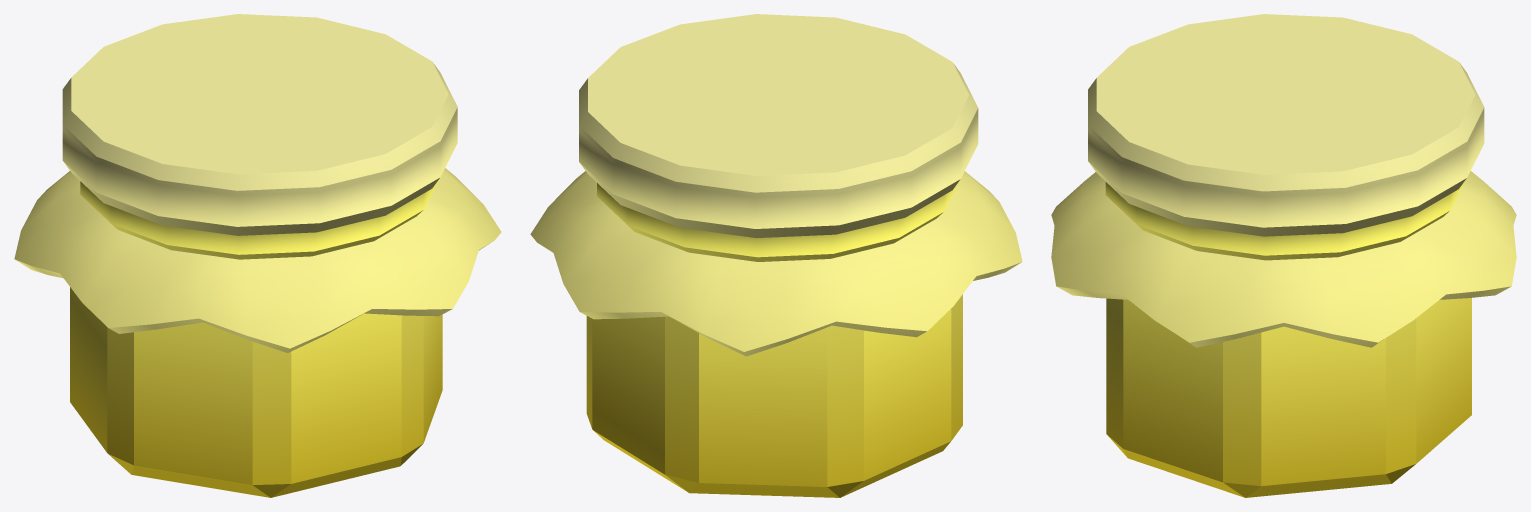
Rendered from jam_yellow.fbx.
3 views of the same model, side by side, from view 1: azimuth 30°, elevation 25°; view 2: azimuth 150°, elevation 25°; view 3: azimuth 270°, elevation 25° (orthographic).
Parts seen in each view (by area): view 1: jam_yellow; view 2: jam_yellow; view 3: jam_yellow.
Part boxes in pixels (box(x1,y1,x2,y2)): jam_yellow: box(14, 14, 501, 497); jam_yellow: box(530, 14, 1022, 497); jam_yellow: box(1051, 14, 1516, 497).
Bounding box in the file's own units: 65.2 × 51.35 × 65.2.
